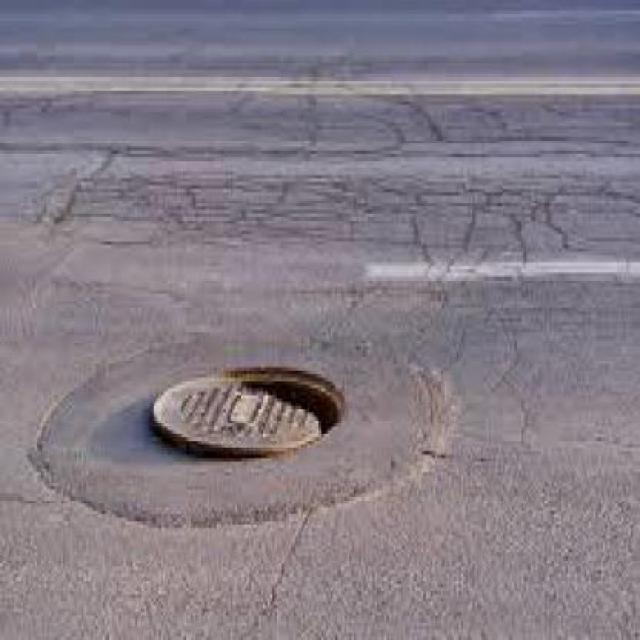Manhole: (144, 388, 263, 446)
Open Manhole: (204, 355, 358, 460), (265, 386, 272, 387)
